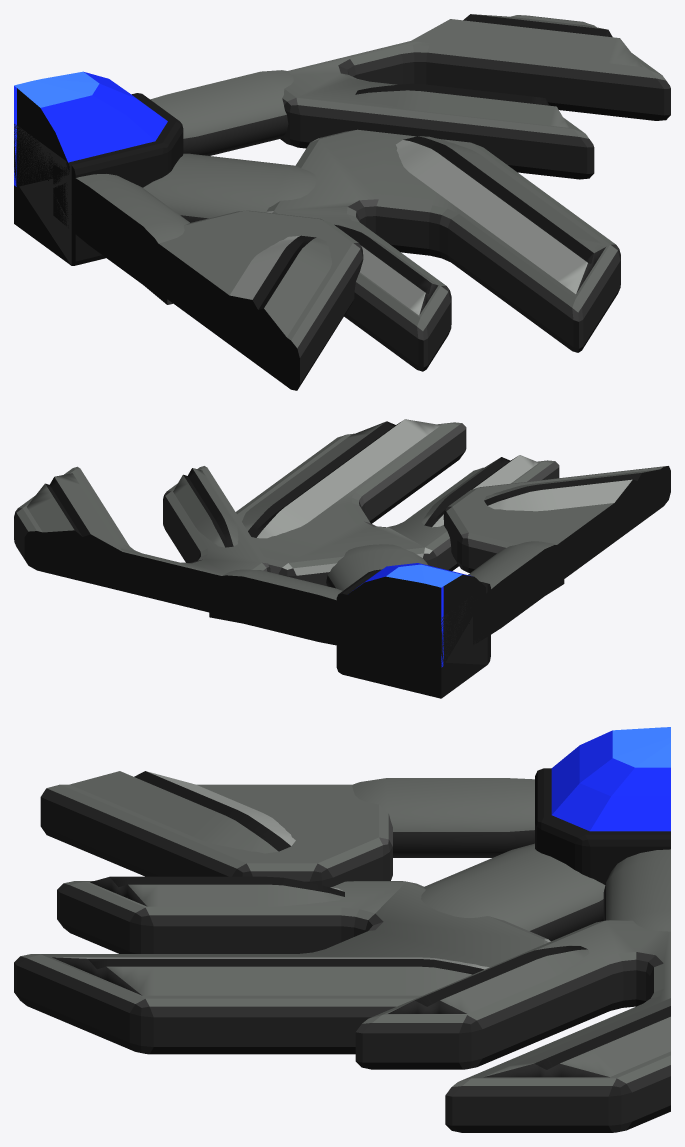
File: dark_saw_197.glb
The picture shows the model from 3 angles, top to bottom: view 1: azimuth 30°, elevation 25°; view 2: azimuth 150°, elevation 25°; view 3: azimuth 270°, elevation 25°; orthographic projection. The views are drawn at different scales.
Visible parts, largest first — view 1: dark_saw_197_under1_plate, dark_saw_197_arm1_plate, dark_saw_197_arm2_plate, dark_saw_197_under1_ridge0, dark_saw_197_gem, dark_saw_197_gem_bezel, dark_saw_197_arm2_rod, dark_saw_197_arm1_rod, dark_saw_197_under1_rod, dark_saw_197_arm2_ridge0, dark_saw_197_arm1_ridge0, dark_saw_197_arm1_ridge1 (+1 smaller); view 2: dark_saw_197_under1_plate, dark_saw_197_arm1_plate, dark_saw_197_arm2_plate, dark_saw_197_gem_bezel, dark_saw_197_gem, dark_saw_197_under1_ridge0, dark_saw_197_arm1_rod, dark_saw_197_arm2_rod, dark_saw_197_arm2_ridge0, dark_saw_197_arm1_ridge0, dark_saw_197_arm1_ridge1, dark_saw_197_under1_rod (+1 smaller); view 3: dark_saw_197_under1_plate, dark_saw_197_arm1_plate, dark_saw_197_arm2_plate, dark_saw_197_under1_ridge0, dark_saw_197_arm2_rod, dark_saw_197_gem, dark_saw_197_under1_rod, dark_saw_197_arm2_ridge0, dark_saw_197_arm1_ridge0, dark_saw_197_under1_ridge1, dark_saw_197_gem_bezel, dark_saw_197_arm1_ridge1 (+1 smaller).
Part boxes in pixels (x1,y1,x2,y2): dark_saw_197_under1_plate: (266,129,620,371); dark_saw_197_arm1_plate: (280,15,670,179); dark_saw_197_arm2_plate: (140,210,363,390); dark_saw_197_under1_ridge0: (396,136,605,293); dark_saw_197_gem: (14,71,167,186); dark_saw_197_gem_bezel: (14,93,183,265); dark_saw_197_arm2_rod: (53,164,189,304); dark_saw_197_arm1_rod: (150,70,293,155); dark_saw_197_under1_rod: (143,153,316,222); dark_saw_197_arm2_ridge0: (224,235,332,349); dark_saw_197_arm1_ridge0: (411,14,642,66); dark_saw_197_arm1_ridge1: (355,83,568,127); dark_saw_197_under1_plate: (236,422,559,585); dark_saw_197_arm1_plate: (14,466,270,619); dark_saw_197_arm2_plate: (443,466,670,591); dark_saw_197_gem_bezel: (336,569,490,698); dark_saw_197_gem: (345,563,485,668); dark_saw_197_under1_ridge0: (242,419,440,538); dark_saw_197_arm1_rod: (209,569,367,650); dark_saw_197_arm2_rod: (468,541,564,645); dark_saw_197_arm2_ridge0: (484,468,664,513); dark_saw_197_arm1_ridge0: (27,473,127,558); dark_saw_197_arm1_ridge1: (173,468,238,547); dark_saw_197_under1_rod: (326,544,427,590); dark_saw_197_under1_plate: (14,881,550,1054); dark_saw_197_arm1_plate: (355,920,670,1132); dark_saw_197_arm2_plate: (40,784,392,887); dark_saw_197_under1_ridge0: (52,957,489,995); dark_saw_197_arm2_rod: (352,778,534,857); dark_saw_197_gem: (551,727,670,831); dark_saw_197_under1_rod: (421,843,605,941); dark_saw_197_arm2_ridge0: (70,771,295,853); dark_saw_197_arm1_ridge0: (484,998,670,1077); dark_saw_197_under1_ridge1: (90,876,344,906); dark_saw_197_gem_bezel: (535,768,670,884); dark_saw_197_arm1_ridge1: (388,945,589,1013).
Bounding box in the file's own units: 23.7 × 5.63 × 21.97.
